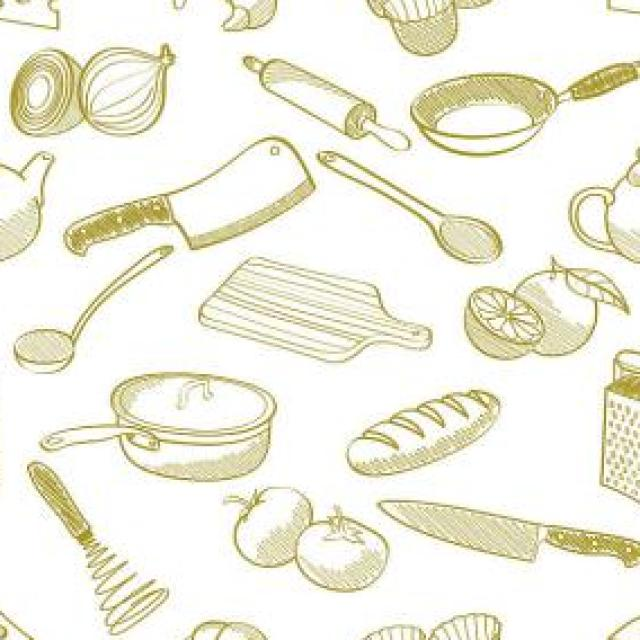knife: (59, 135, 316, 275), (372, 494, 640, 584)
